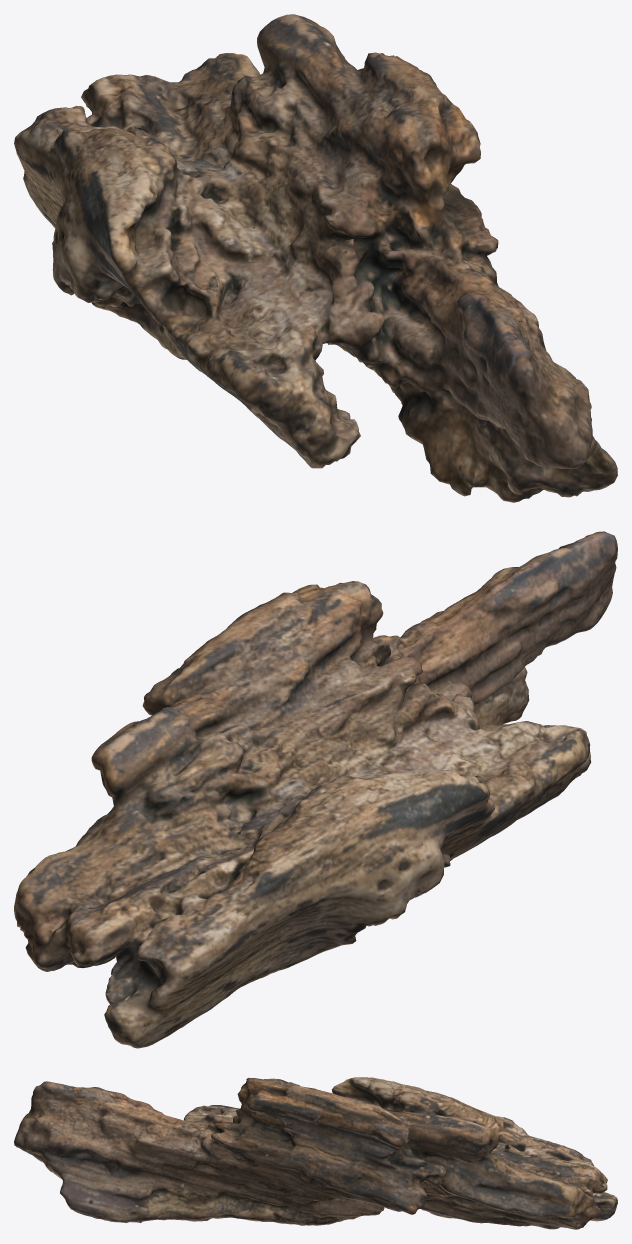
Rendered from driftwood.glb.
3 renders of one model, top to bottom at view 1: azimuth 30°, elevation 25°; view 2: azimuth 150°, elevation 25°; view 3: azimuth 270°, elevation 25°, orthographic. The views are drawn at different scales.
Visible parts, largest first — view 1: DriftWood_3; view 2: DriftWood_3; view 3: DriftWood_3.
Boxes of the visible parts, box(x1,y1,x2,y2) form: DriftWood_3: box(14, 14, 617, 502); DriftWood_3: box(14, 531, 617, 1048); DriftWood_3: box(14, 1077, 617, 1229).
Bounding box in the file's own units: 0.7007 × 0.571 × 1.92.
1 material, 1 textured.
